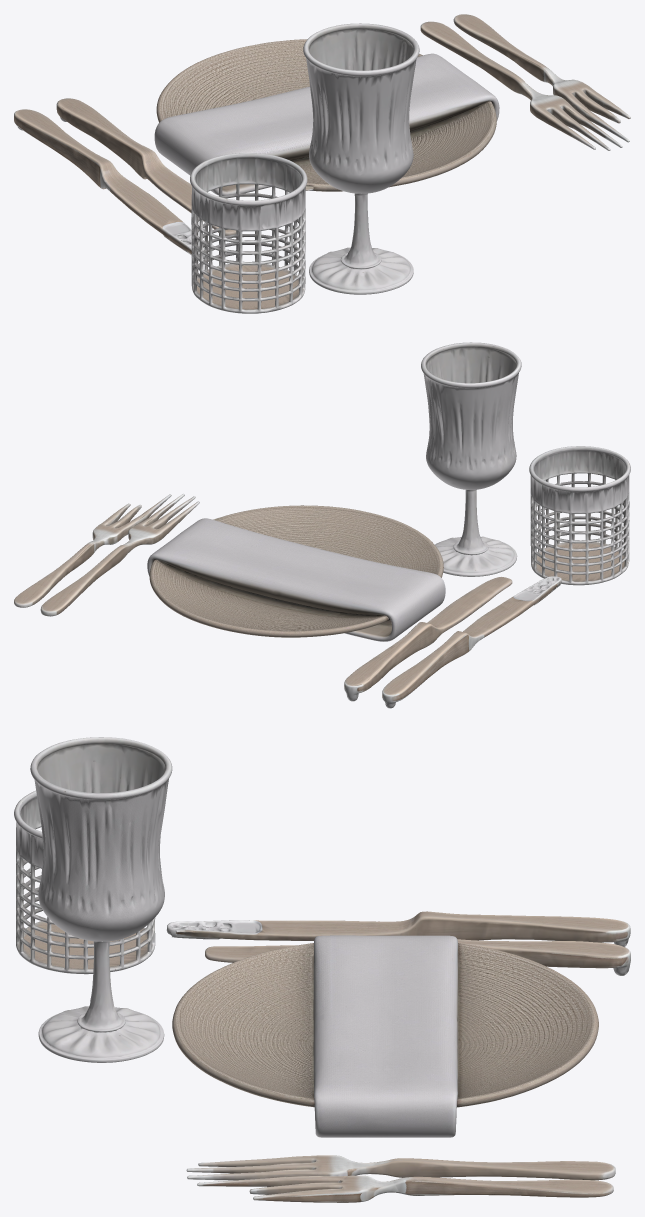
Rendered from decor-place-setting-horizontal.glb.
3 renders of one model, top to bottom at view 1: azimuth 30°, elevation 25°; view 2: azimuth 150°, elevation 25°; view 3: azimuth 270°, elevation 25°, orthographic. The views are drawn at different scales.
Visible parts, largest first — view 1: tripo_part_0, tripo_part_1, tripo_part_3, tripo_part_13, tripo_part_2, tripo_part_6, tripo_part_4, tripo_part_8, tripo_part_7, tripo_part_5, tripo_part_16, tripo_part_14 (+5 smaller); view 2: tripo_part_1, tripo_part_0, tripo_part_3, tripo_part_2, tripo_part_13, tripo_part_6, tripo_part_8, tripo_part_7, tripo_part_4, tripo_part_5, tripo_part_9, tripo_part_11 (+4 smaller); view 3: tripo_part_1, tripo_part_0, tripo_part_2, tripo_part_13, tripo_part_6, tripo_part_7, tripo_part_3, tripo_part_4, tripo_part_5, tripo_part_16, tripo_part_8, tripo_part_15 (+5 smaller).
Boxes of the visible parts, box(x1,y1,x2,y2) form: tripo_part_0: box(303, 23, 419, 193); tripo_part_1: box(154, 53, 499, 195); tripo_part_3: box(190, 153, 307, 313); tripo_part_13: box(156, 39, 422, 122); tripo_part_2: box(299, 101, 496, 191); tripo_part_6: box(420, 21, 622, 150); tripo_part_4: box(309, 247, 413, 294); tripo_part_8: box(56, 98, 165, 179); tripo_part_7: box(14, 109, 124, 189); tripo_part_5: box(104, 178, 209, 259); tripo_part_16: box(453, 14, 554, 82); tripo_part_14: box(340, 193, 381, 269); tripo_part_1: box(147, 518, 445, 641); tripo_part_0: box(421, 342, 521, 489); tripo_part_3: box(529, 446, 630, 585); tripo_part_2: box(213, 505, 443, 577); tripo_part_13: box(149, 559, 390, 637); tripo_part_6: box(40, 493, 199, 616); tripo_part_8: box(344, 622, 442, 701); tripo_part_7: box(382, 631, 478, 708); tripo_part_4: box(435, 536, 517, 576); tripo_part_5: box(463, 576, 561, 641); tripo_part_9: box(216, 583, 335, 618); tripo_part_11: box(427, 577, 512, 633); tripo_part_1: box(313, 935, 457, 1137); tripo_part_0: box(30, 737, 172, 941); tripo_part_2: box(172, 943, 314, 1107); tripo_part_13: box(457, 943, 598, 1107); tripo_part_6: box(186, 1155, 615, 1180); tripo_part_7: box(395, 911, 630, 946); tripo_part_3: box(14, 790, 155, 974); tripo_part_4: box(38, 1006, 164, 1062); tripo_part_5: box(166, 920, 402, 940); tripo_part_16: box(392, 1176, 613, 1197); tripo_part_8: box(457, 939, 630, 975); tripo_part_15: box(249, 1175, 398, 1202).
Bounding box in the file's own units: 0.45 × 0.1927 × 0.3973.
Materials: 67 (67 with a texture image).
